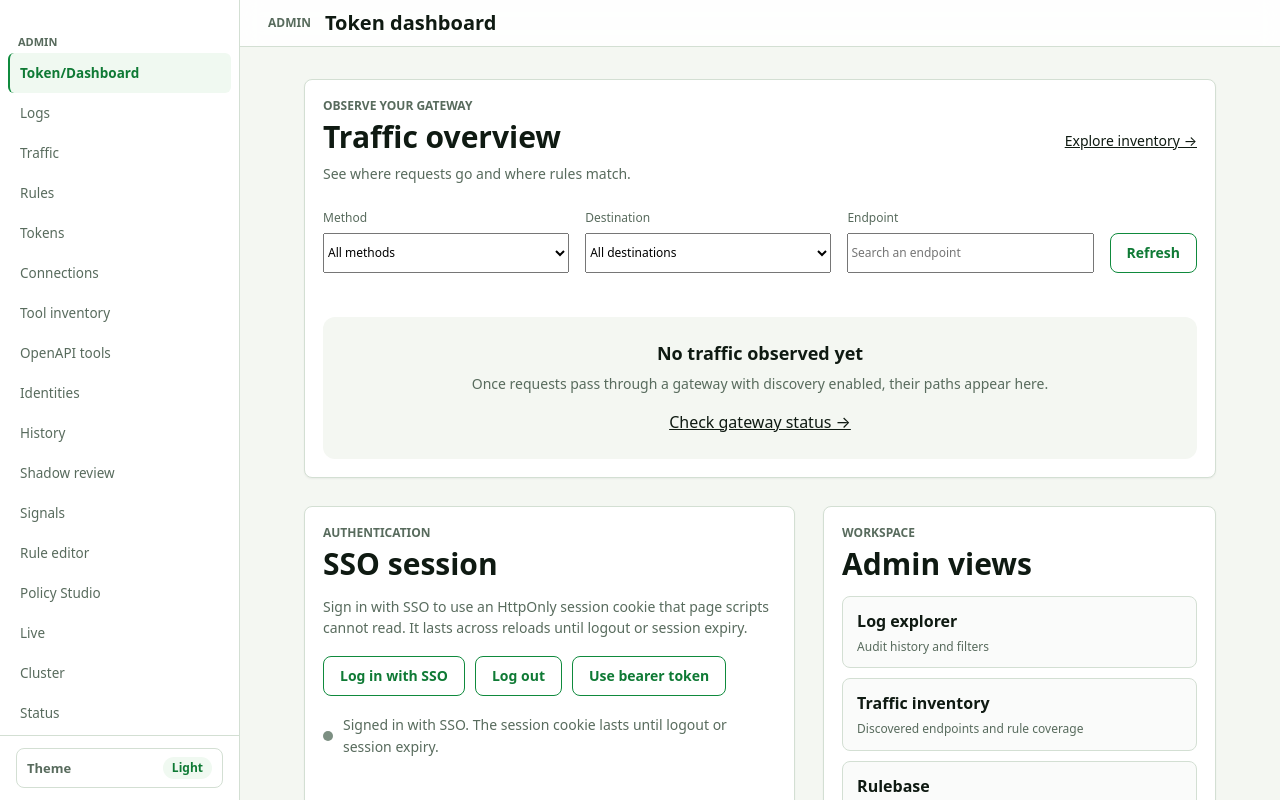
it: AdminShell › keeps the completed cookie mode for the page load when later discovery would fail
This screenshot has width=1280, height=800.
(page scrolled)
Expected: the text "Signed in with SSO. The session cookie lasts until logout or session expiry." is shown, [343,714,776,759]
Click the link "Status": click(40, 713) [20,704,60,722]
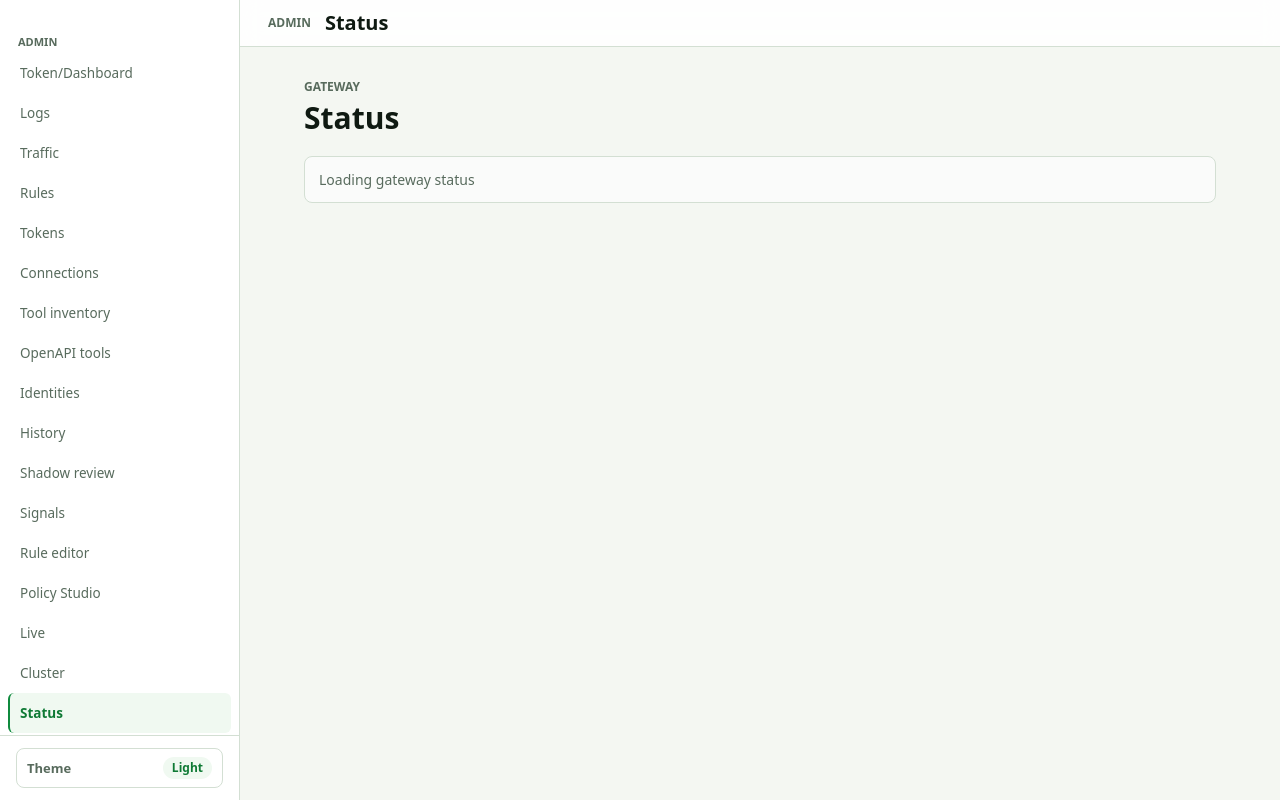
Click the link "Token/Dashboard": click(76, 73) [20,64,133,82]
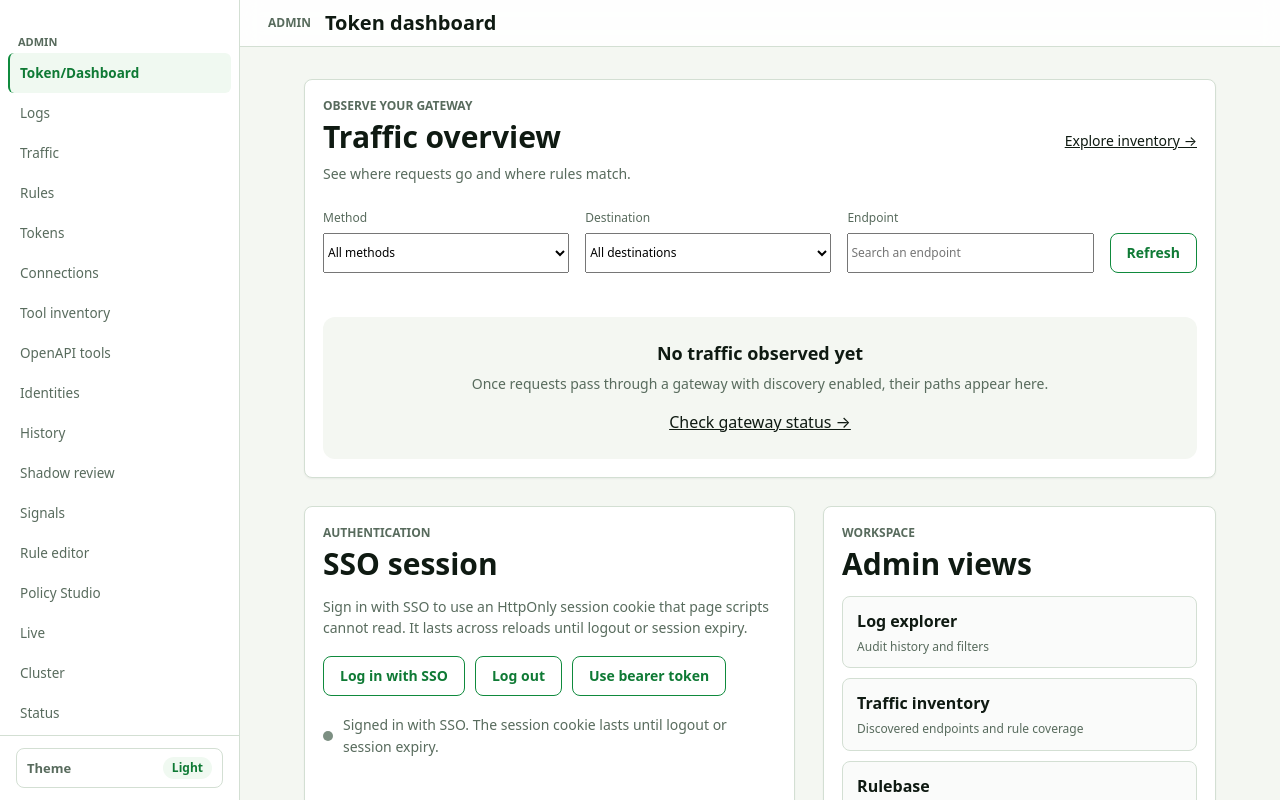
Expected: the heading "SSO session" is shown, [323,543,498,584]
Expected: the button "Log out" is shown, [475,656,562,696]
